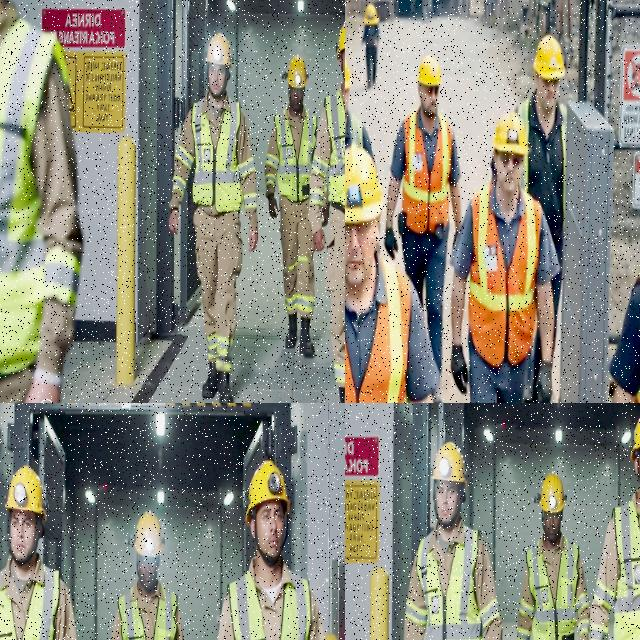Vest: (0, 19, 78, 374), (468, 182, 541, 366), (345, 261, 409, 402), (416, 527, 482, 639), (402, 110, 451, 233), (191, 98, 242, 212), (526, 538, 577, 639), (274, 110, 316, 202), (613, 501, 639, 639), (21, 567, 58, 639), (324, 91, 344, 206), (279, 572, 309, 639), (152, 586, 176, 639), (634, 391, 639, 402)
Worker: (0, 0, 82, 402), (169, 34, 257, 402), (450, 111, 558, 402), (384, 55, 461, 374), (345, 145, 437, 402), (404, 443, 501, 639), (217, 460, 323, 639), (264, 56, 316, 357), (516, 34, 566, 344), (308, 23, 344, 402), (0, 466, 76, 639), (517, 473, 588, 639), (589, 419, 639, 639), (110, 512, 182, 639), (609, 274, 639, 402), (345, 58, 373, 159), (361, 3, 379, 89)
helmet: (345, 144, 381, 223), (245, 460, 289, 524), (5, 466, 45, 520), (492, 111, 528, 155), (431, 442, 466, 487), (533, 34, 564, 80), (534, 472, 565, 513), (134, 511, 162, 556), (205, 34, 232, 67), (281, 55, 307, 88), (417, 55, 440, 86), (630, 418, 639, 461), (335, 23, 344, 58), (364, 3, 378, 25), (345, 58, 351, 89)
